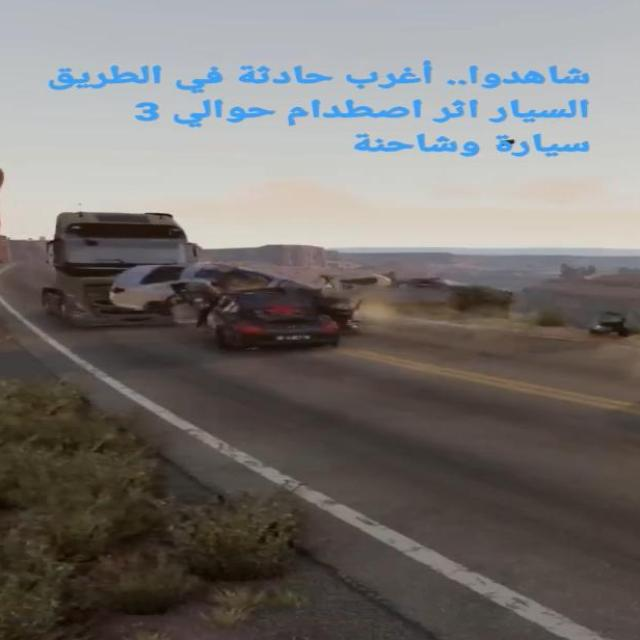accident: (105, 263, 407, 351)
